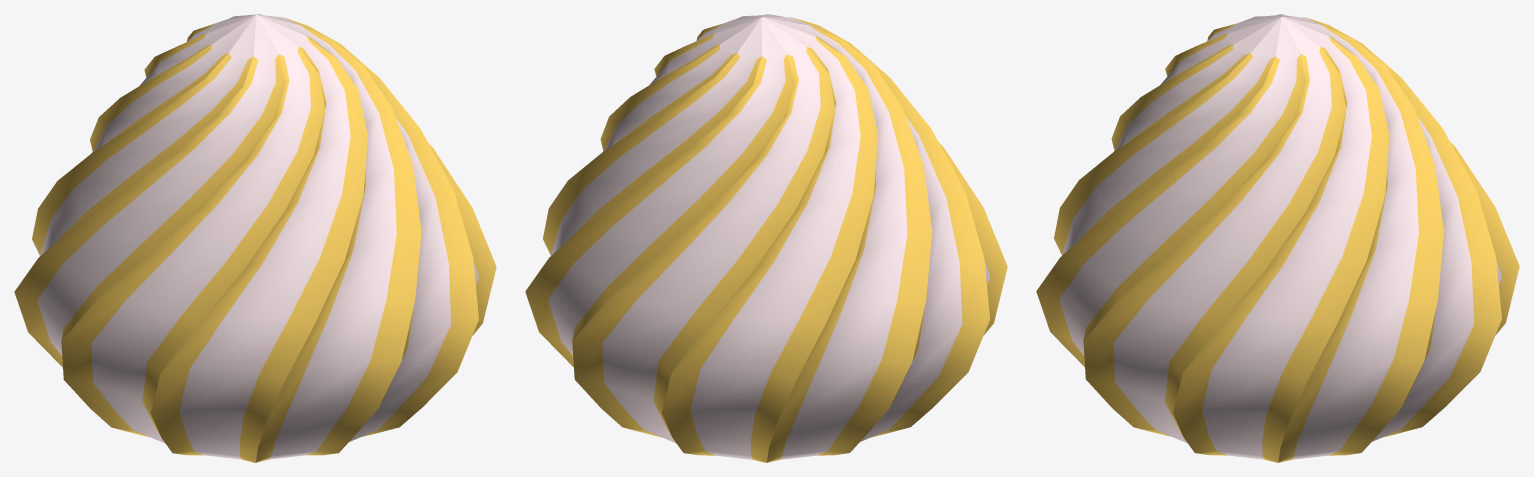
Rendered from Ice Cream Spiral B White Yellow.fbx.
The picture shows the model from 3 angles, left to right: view 1: azimuth 30°, elevation 25°; view 2: azimuth 150°, elevation 25°; view 3: azimuth 270°, elevation 25°; orthographic projection.
Parts seen in each view (by area): view 1: Ice Cream Spiral B White Yellow; view 2: Ice Cream Spiral B White Yellow; view 3: Ice Cream Spiral B White Yellow.
Boxes of the visible parts, bbox=[...] form: Ice Cream Spiral B White Yellow: bbox=[14, 14, 496, 462]; Ice Cream Spiral B White Yellow: bbox=[525, 14, 1007, 462]; Ice Cream Spiral B White Yellow: bbox=[1036, 14, 1519, 462].
Size of the model in its own units: 0.4173 by 0.3732 by 0.4173.
